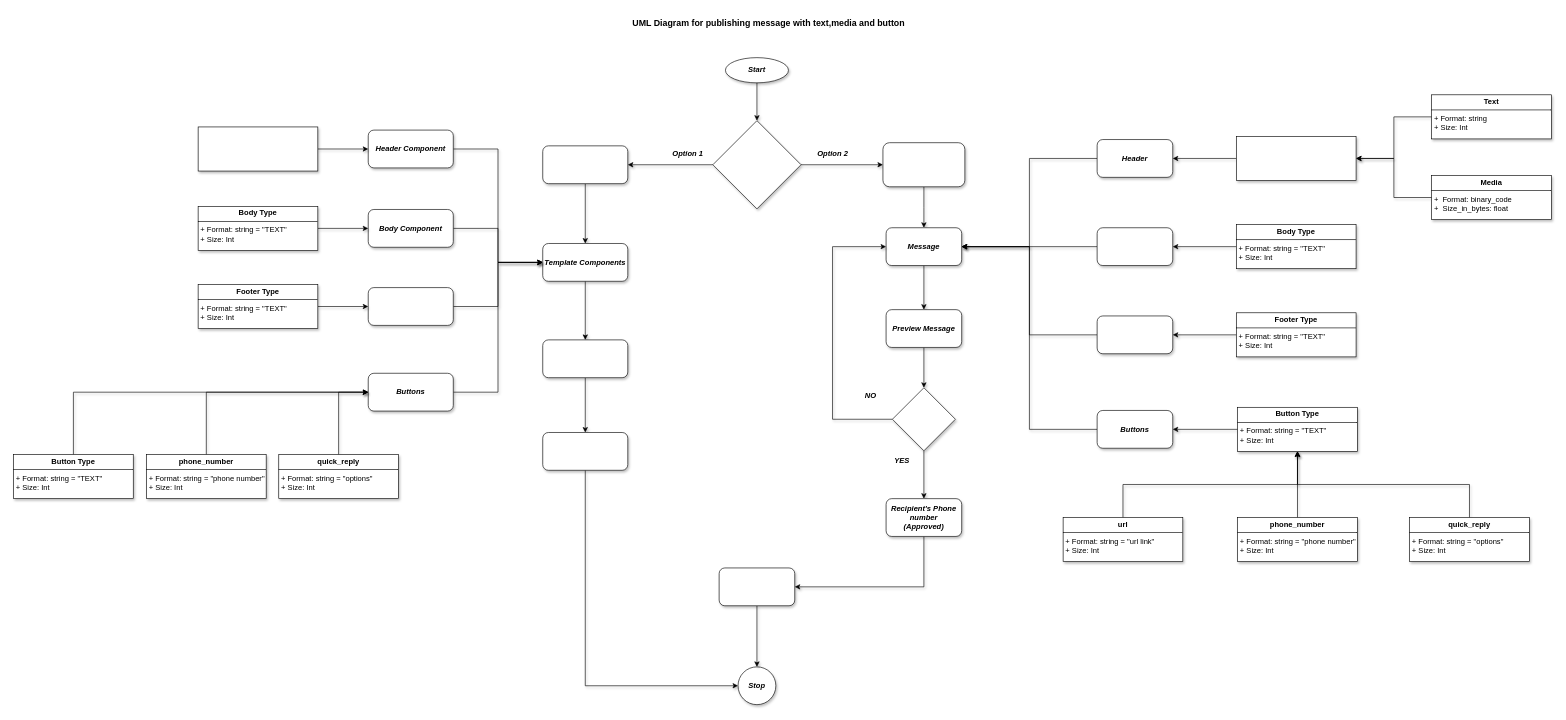
This 1566x720 diagram has some shape labels left out. The shapes that lost their labels are listed below. From the top down, each one's centre as x and y in pixels, then its label:
[258,149]: Header Type + Format: string = "MEDIA" + Size: Int
[586,165]: Create New Template
[757,165]: Template selection
[924,165]: Select template from existing template list
[1296,159]: Header Type + Format: string = "TEXT" + Size: Int
[1135,247]: Body
[411,307]: Footer Component (Optional)
[1135,335]: Footer (optional)
[586,359]: Preview Template
[924,420]: Confirmation
[586,452]: Response
[757,587]: send message to user
